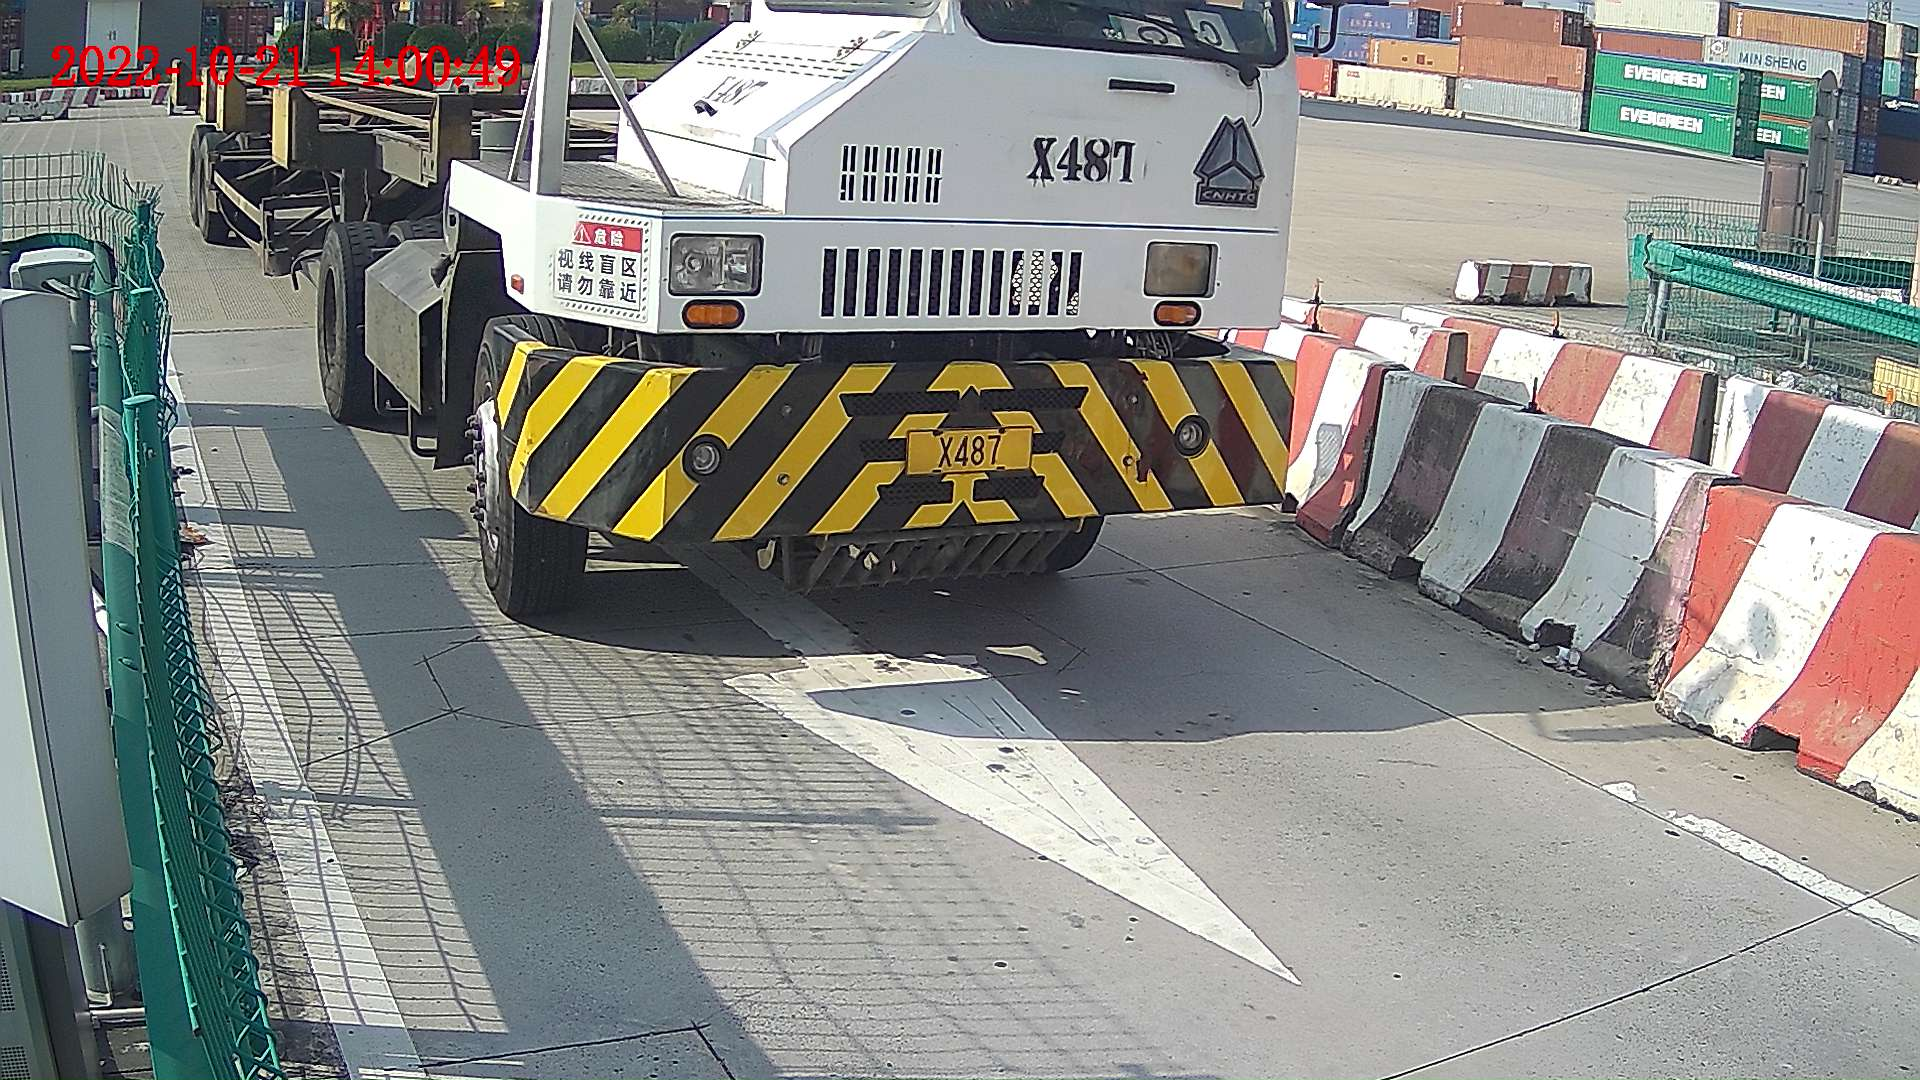head: (464, 1, 1299, 615)
plate: (902, 428, 1030, 476)
